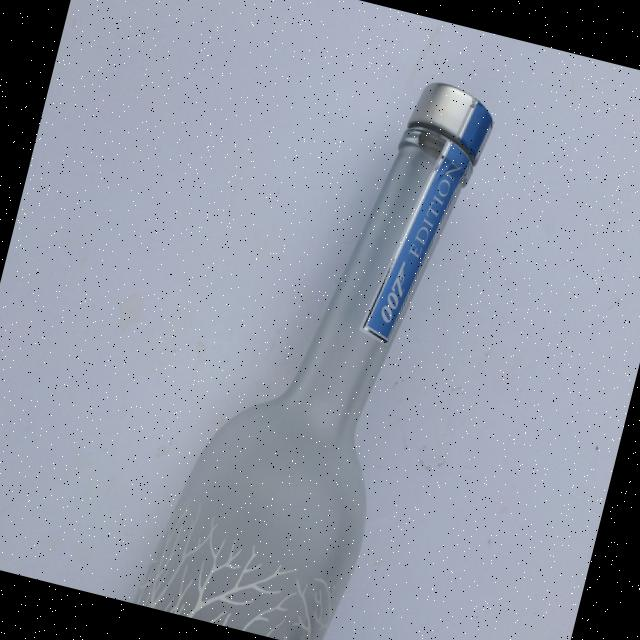glass: (132, 39, 500, 640)
